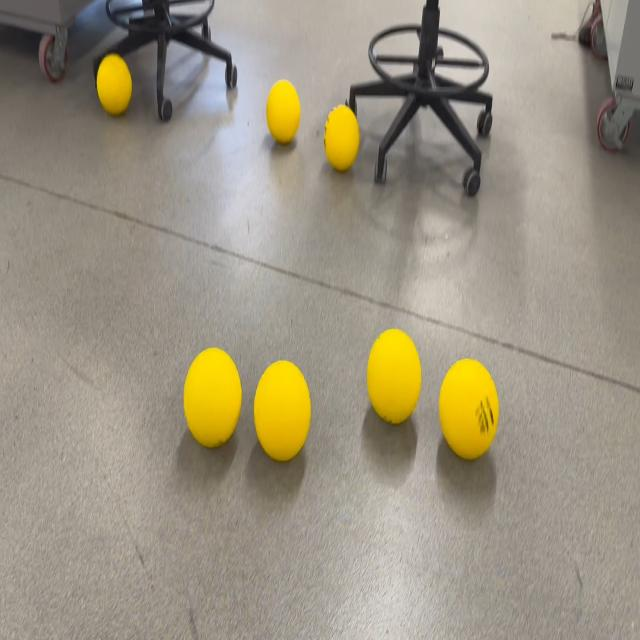Fuel: (438, 357, 499, 461), (183, 347, 242, 449), (253, 359, 310, 463), (366, 329, 422, 425), (324, 104, 361, 172), (266, 79, 301, 145), (97, 54, 132, 116)
